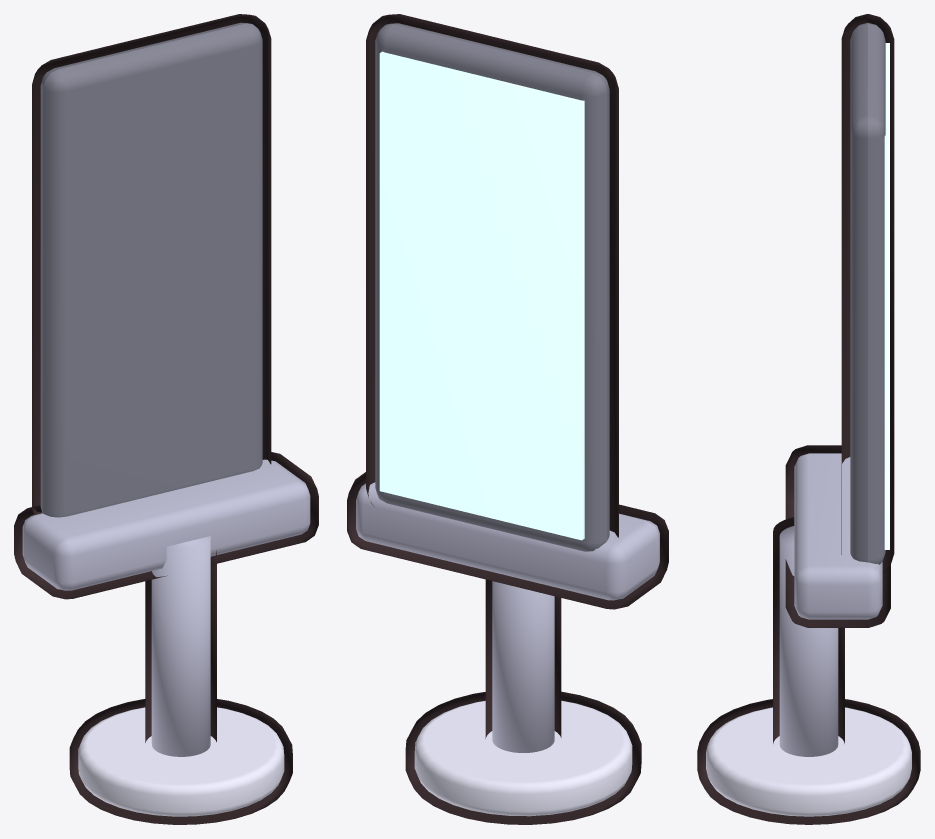
File: telefono_supporto.glb
3 views of the same model, side by side, from view 1: azimuth 30°, elevation 25°; view 2: azimuth 150°, elevation 25°; view 3: azimuth 270°, elevation 25° (orthographic). The views are drawn at different scales.
Parts seen in each view (by area): view 1: Cube.037, Cube.038, Cylinder.021, Cylinder.020; view 2: schermo, Cube.037, Cylinder.021, Cube.038, Cylinder.020; view 3: Cube.037, Cylinder.021, Cube.038, Cylinder.020, schermo.
Part boxes in pixels (x1=…): Cube.037: x1=32, y1=14, x2=271, y2=517; Cube.038: x1=14, y1=452, x2=318, y2=599; Cylinder.021: x1=69, y1=699, x2=292, y2=824; Cylinder.020: x1=145, y1=536, x2=216, y2=756; schermo: x1=379, y1=51, x2=584, y2=540; Cube.037: x1=366, y1=14, x2=618, y2=551; Cylinder.021: x1=405, y1=691, x2=641, y2=824; Cube.038: x1=347, y1=472, x2=668, y2=609; Cylinder.020: x1=485, y1=579, x2=561, y2=752; Cube.037: x1=841, y1=14, x2=894, y2=572; Cylinder.021: x1=697, y1=699, x2=920, y2=824; Cube.038: x1=785, y1=445, x2=890, y2=627; Cylinder.020: x1=773, y1=517, x2=844, y2=756; schermo: x1=884, y1=43, x2=889, y2=549.
Size of the model in its own units: 0.1058 by 0.2709 by 0.0759.
